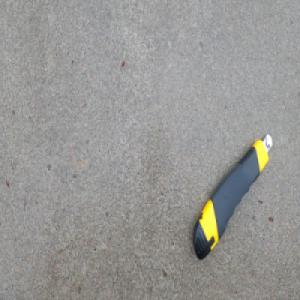Cutter: (191, 130, 273, 260)
